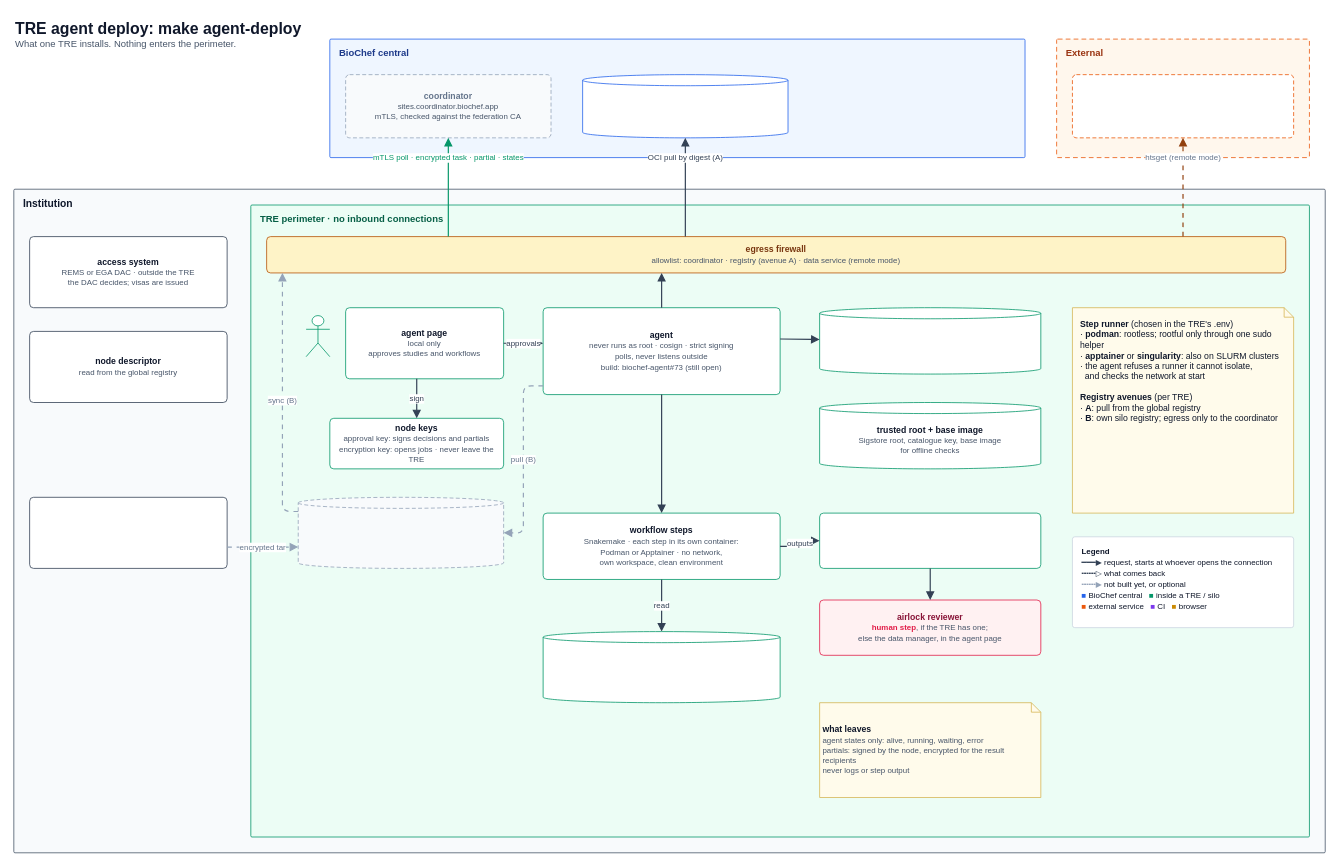
The diagram is 1339 pixels wide and 867 high, and some of its shapes have lost their labels. The shapes that lost their labels are listed below. From the top down, each one's centre as x and y in pixels, then its label:
point (685, 106): global registry tools by digest · catalogue
point (1183, 106): CEGA / FEGA htsget · remote mode only
point (317, 336): data manager
point (930, 340): local policy approved studies and workflows visa issuers · dataset → path
point (128, 532): node operator brings tools in as an encrypted tar (avenue B, no network)
point (400, 532): silo registry · avenue B synced through egress, or loaded from an encrypted tar
point (930, 540): Policy Engine barrier 1: only aggregates, minimum counts
point (661, 667): datasets read-only · path from local policy never leave the TRE
